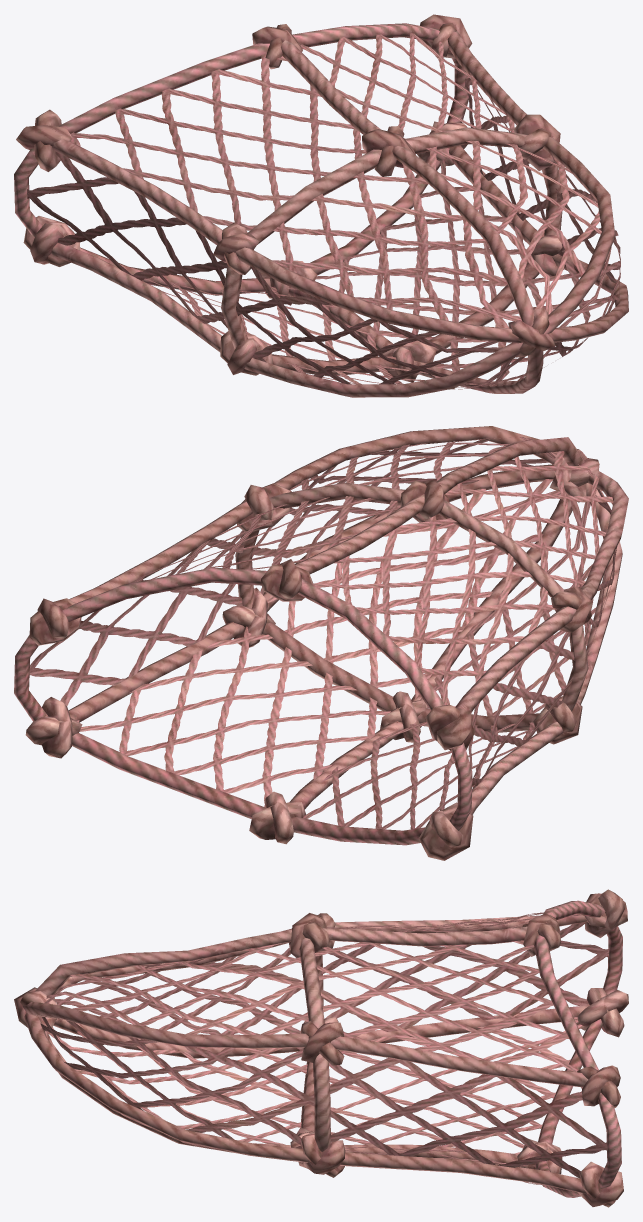
3 renders of one model, top to bottom at view 1: azimuth 30°, elevation 25°; view 2: azimuth 150°, elevation 25°; view 3: azimuth 270°, elevation 25°, orthographic. The views are drawn at different scales.
Visible parts, largest first — view 1: SM_Fishing_Net_Linen_LOD0; view 2: SM_Fishing_Net_Linen_LOD0; view 3: SM_Fishing_Net_Linen_LOD0.
Part boxes in pixels (x1,y1,x2,y2): SM_Fishing_Net_Linen_LOD0: (14,14,628,397); SM_Fishing_Net_Linen_LOD0: (14,426,628,860); SM_Fishing_Net_Linen_LOD0: (14,889,628,1207).
Bounding box in the file's own units: 0.4682 × 0.2739 × 0.5942.
1 material, 1 textured.
